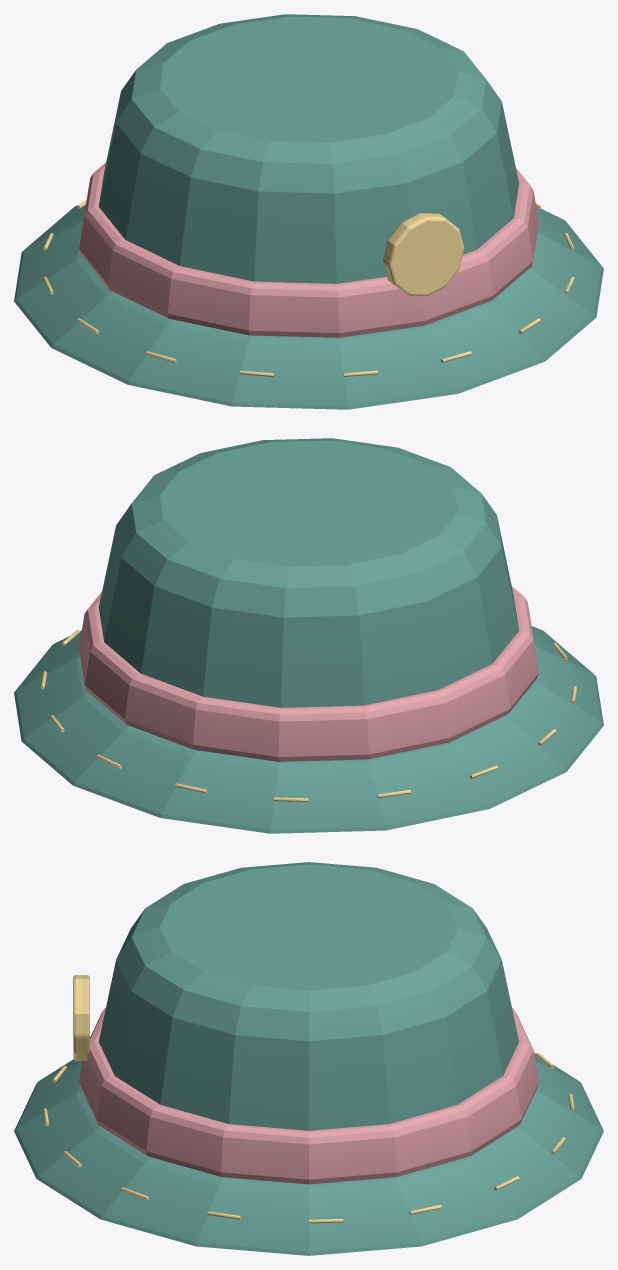
Rendered from hat_festival.glb.
The picture shows the model from 3 angles, top to bottom: view 1: azimuth 30°, elevation 25°; view 2: azimuth 150°, elevation 25°; view 3: azimuth 270°, elevation 25°; orthographic projection.
Parts seen in each view (by area): view 1: bucket, brim, ribbon, badge; view 2: bucket, brim, ribbon; view 3: bucket, brim, ribbon, badge.
Part boxes in pixels (x1,y1,x2,y2): bucket: [98, 14, 519, 283]; brim: [14, 205, 603, 409]; ribbon: [79, 162, 538, 337]; badge: [383, 213, 464, 295]; bucket: [98, 438, 519, 707]; brim: [14, 626, 603, 833]; ribbon: [79, 586, 538, 761]; bucket: [99, 862, 518, 1130]; brim: [14, 1053, 603, 1255]; ribbon: [79, 1008, 538, 1184]; badge: [73, 975, 89, 1060].
Bounding box in the file's own units: 0.8877 × 0.34 × 0.8877.
